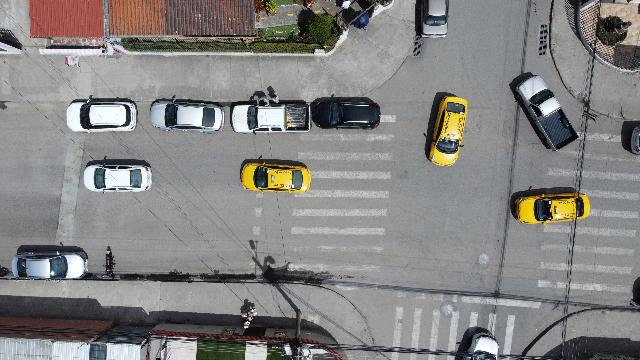Vehiculo: (511, 72, 579, 152), (510, 186, 590, 226), (427, 96, 468, 166), (230, 99, 312, 133), (12, 244, 88, 280), (150, 96, 224, 132), (66, 96, 138, 132), (240, 158, 310, 194), (83, 157, 151, 193), (311, 96, 381, 130), (421, 1, 449, 38)
